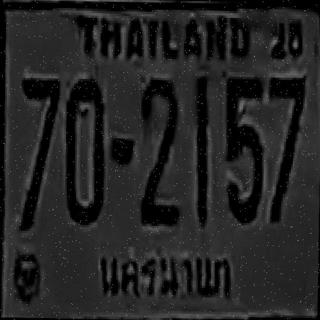N00: (64, 77, 104, 224)
N01: (193, 75, 210, 202)
N02: (138, 76, 179, 206)
N05: (222, 74, 264, 221)
N07: (266, 74, 304, 213), (266, 74, 304, 194), (20, 75, 60, 177), (20, 74, 60, 160)
P27: (92, 246, 240, 303)
